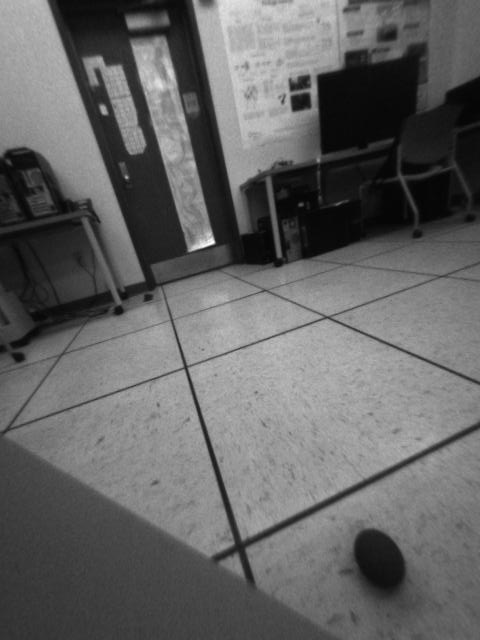dogtoy: (340, 519, 416, 596)
